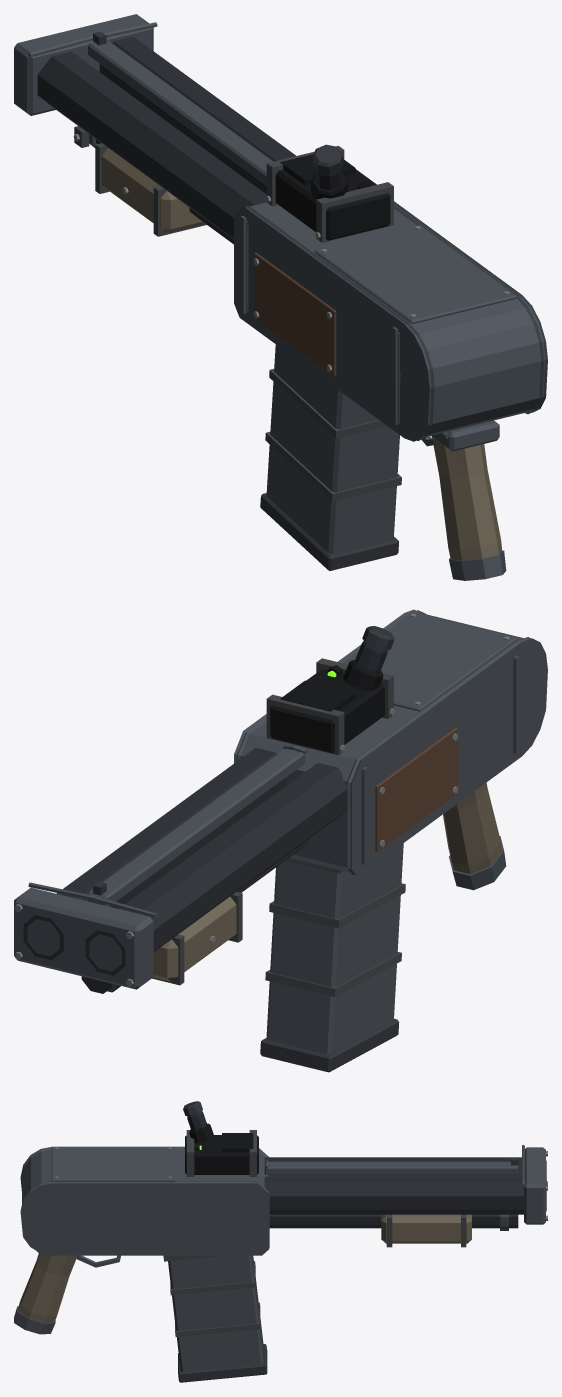
File: bulkhead_a.glb
The picture shows the model from 3 angles, top to bottom: view 1: azimuth 30°, elevation 25°; view 2: azimuth 150°, elevation 25°; view 3: azimuth 270°, elevation 25°; orthographic projection. The views are drawn at different scales.
Visible parts, largest first — view 1: Body, Feed, Pump; view 2: Body, Feed, Pump; view 3: Body, Feed, Pump.
Boxes of the visible parts, box(x1,y1,x2,y2) form: Body: box(14, 14, 547, 580); Feed: box(260, 344, 401, 570); Pump: box(95, 143, 206, 236); Body: box(14, 609, 547, 993); Feed: box(260, 843, 405, 1072); Pump: box(152, 891, 242, 985); Body: box(14, 1101, 547, 1334); Feed: box(163, 1255, 267, 1382); Pump: box(381, 1214, 471, 1247).
Bounding box in the file's own units: 0.1007 × 0.313 × 0.5765.
